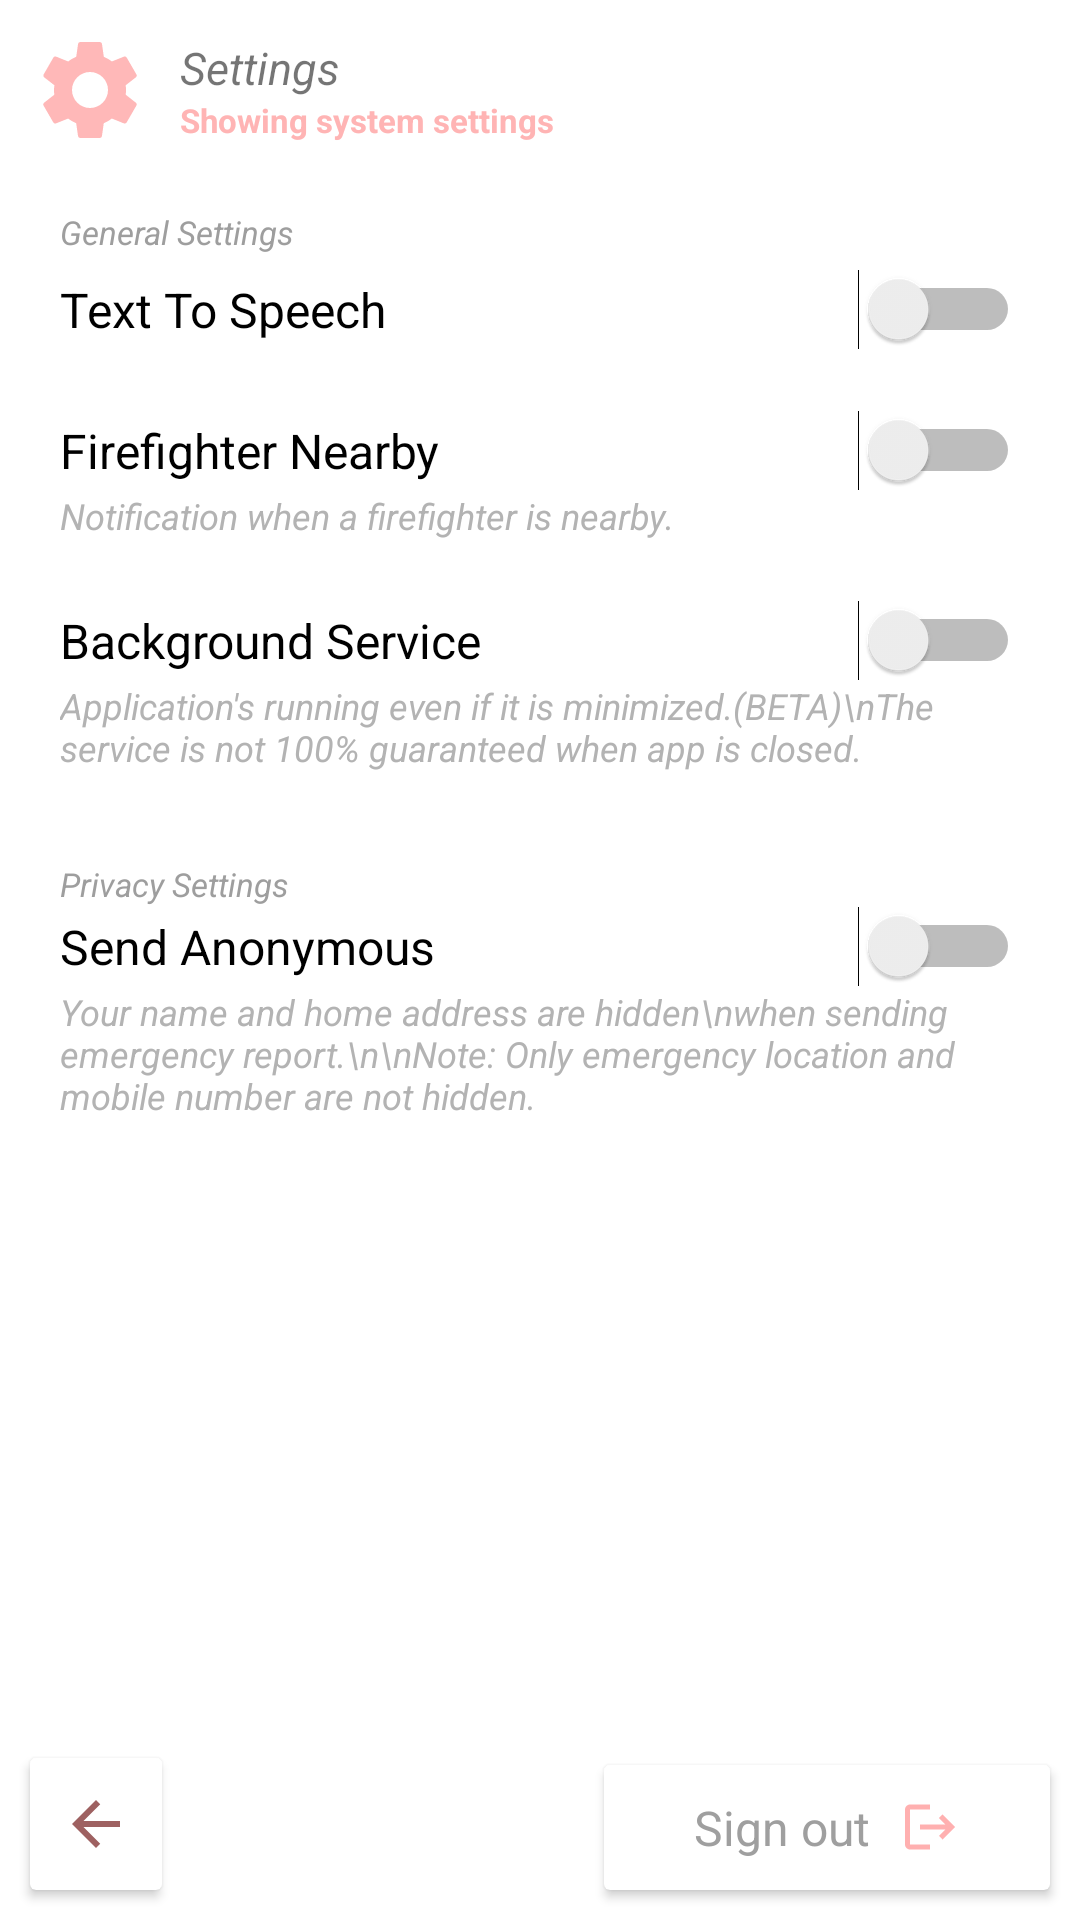

Icon click points for this 1080w x 1920h phone screenshot, format point (x, y):
arrow back: point (96, 1824)
